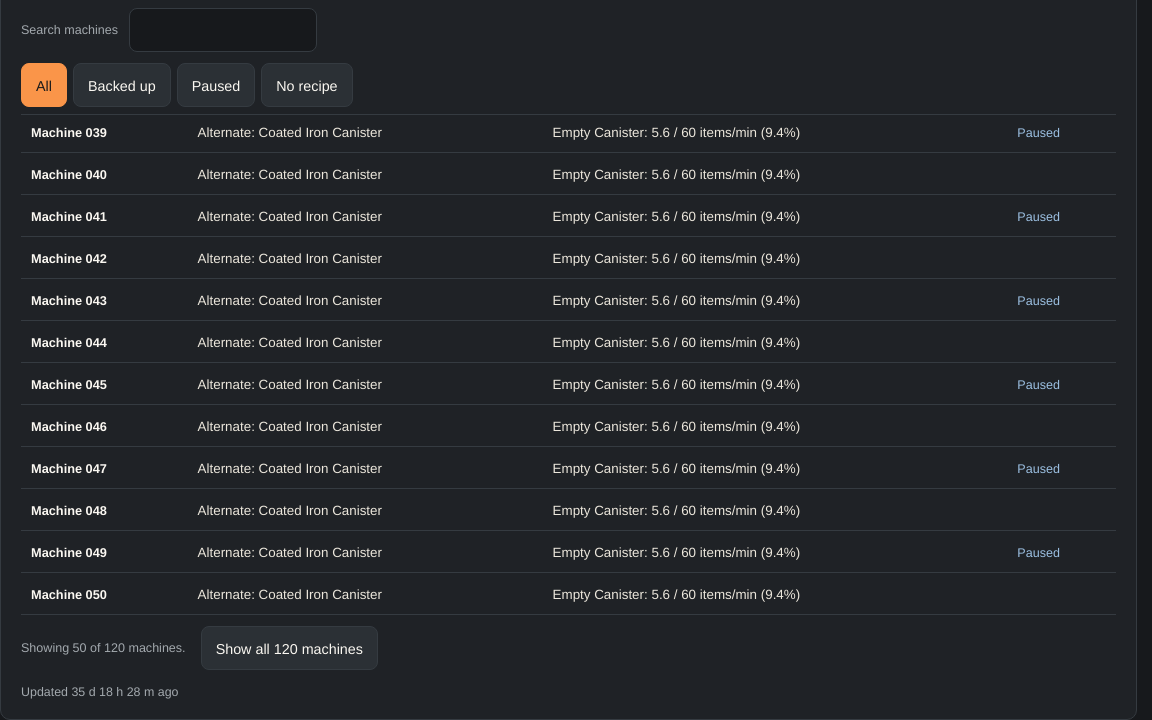
it: FactoryPanel row cap (ADR-0062 F.5) › caps again when the filter changes, and counts the filtered list
(page scrolled)
Click the button "Show all 120 machines". click: (289, 648)
box: left=201, top=626, right=378, bottom=670
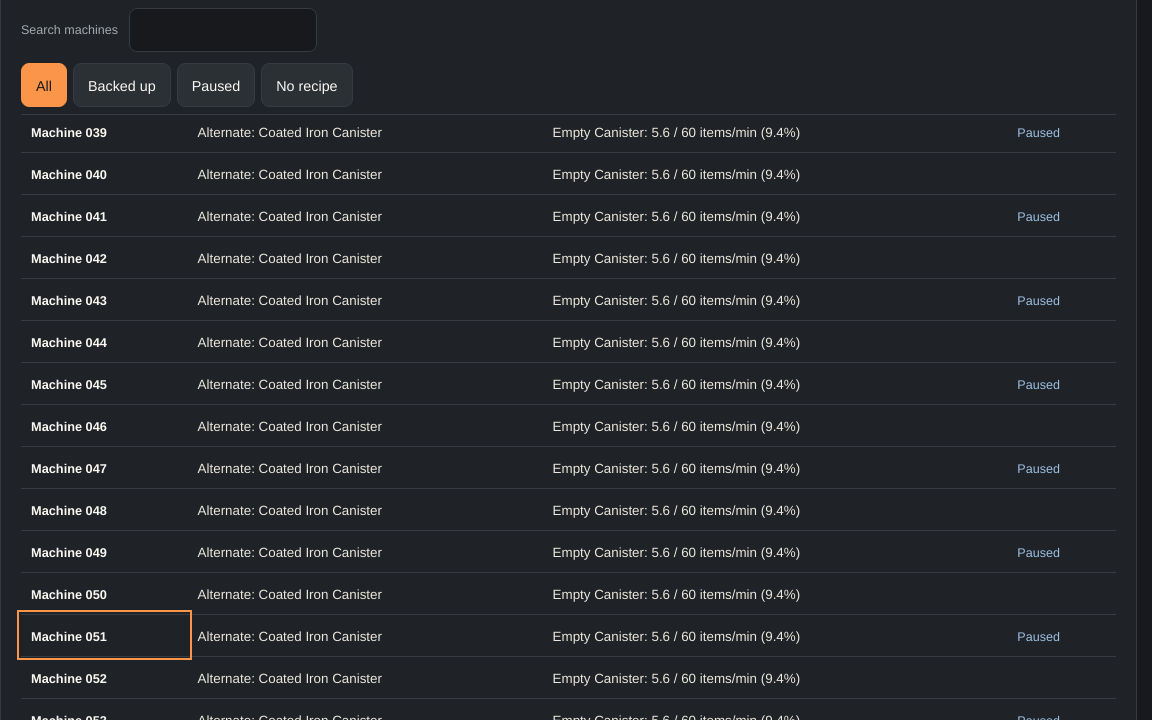
Click the button "Paused". click: (216, 85)
box: left=177, top=63, right=255, bottom=107
(page scrolled)
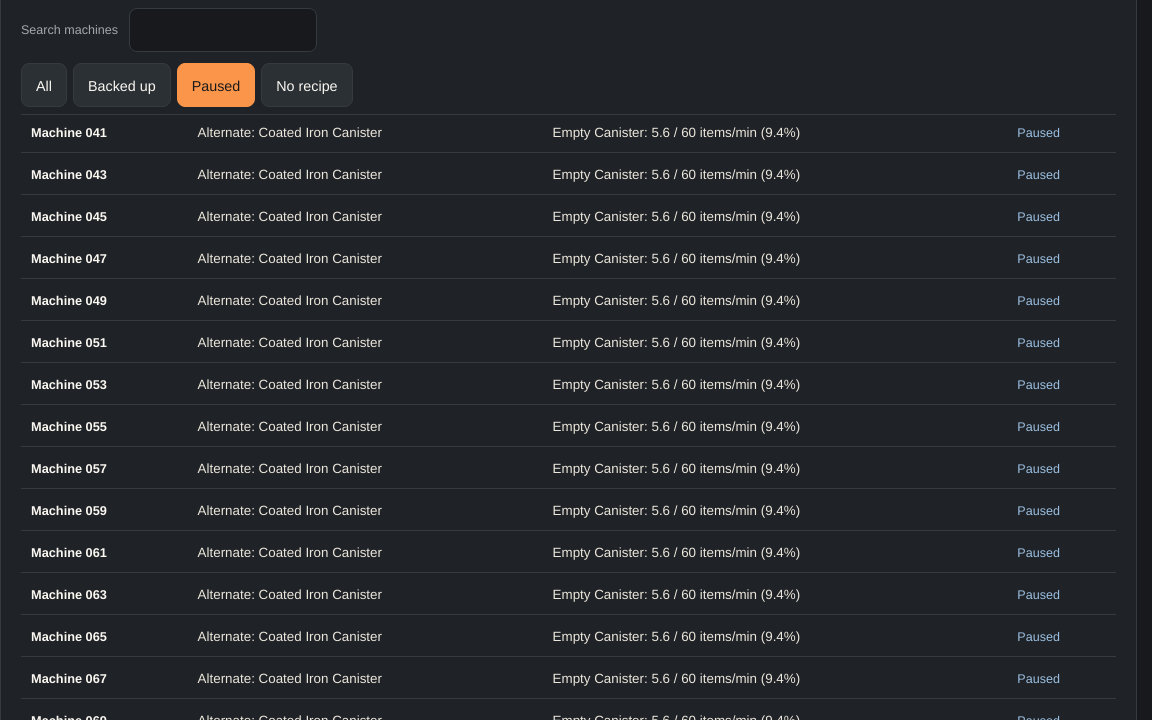
Click the button "All". click: (44, 85)
box: left=21, top=63, right=67, bottom=107
(page scrolled)
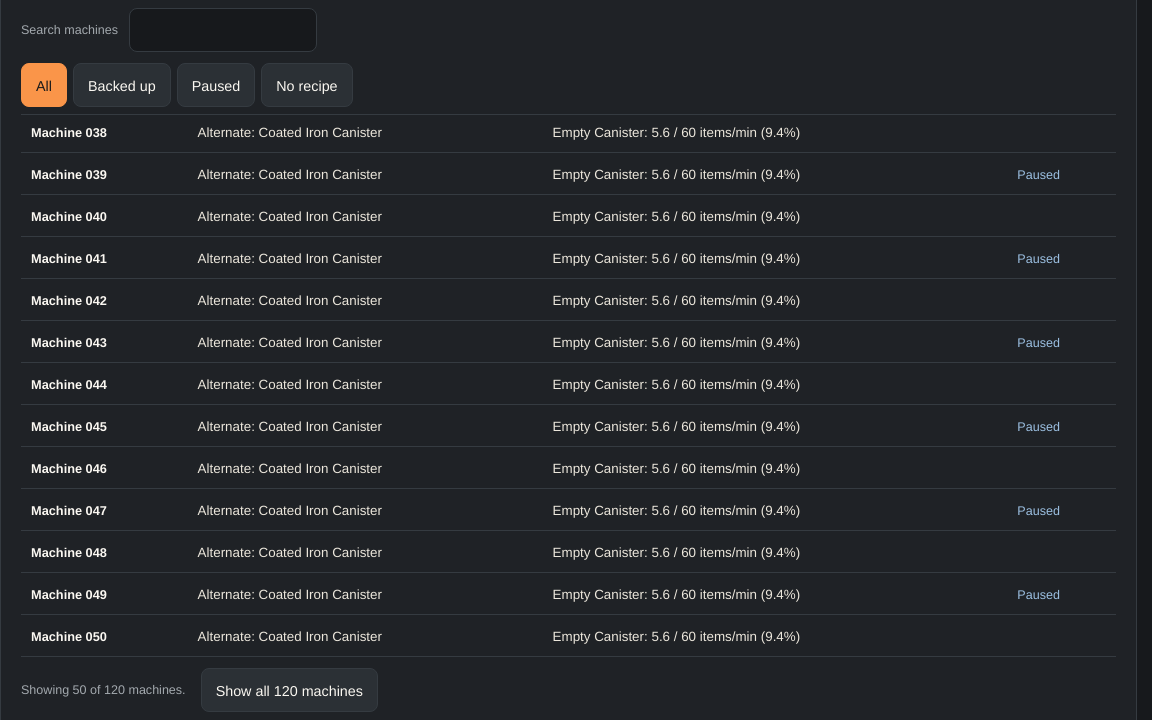
expect the button "Show all 120 machines" is shown: met, box left=201, top=668, right=378, bottom=712
